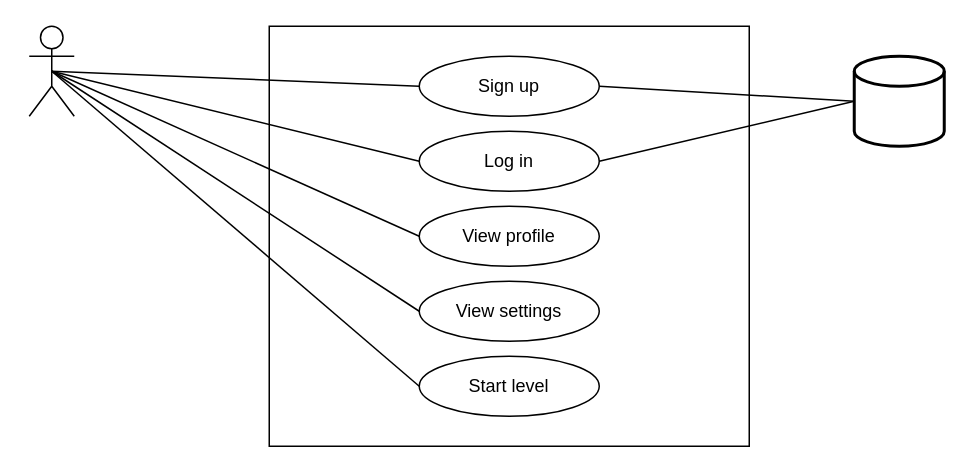
This 972x473 diagram has some shape labels left out. The shapes that lost their labels are listed below. From the top down, each one's box as (x1, y1, x2, y2) in pixels, then its label:
(28, 25, 74, 116): Player
(852, 54, 945, 147): Firebase
